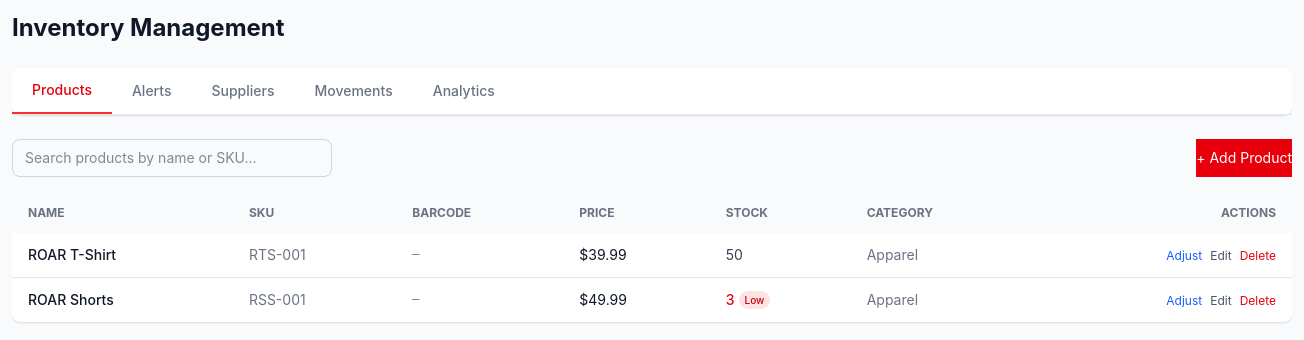
Test case: InventoryManagement › ProductList › deletes a product after confirmation
Expected: the text "ROAR T-Shirt" is shown, 28,246 -> 116,263
Click the button "Delete" in the row of "ROAR T-Shirt" at (1258, 256), box 1240,248 -> 1276,264
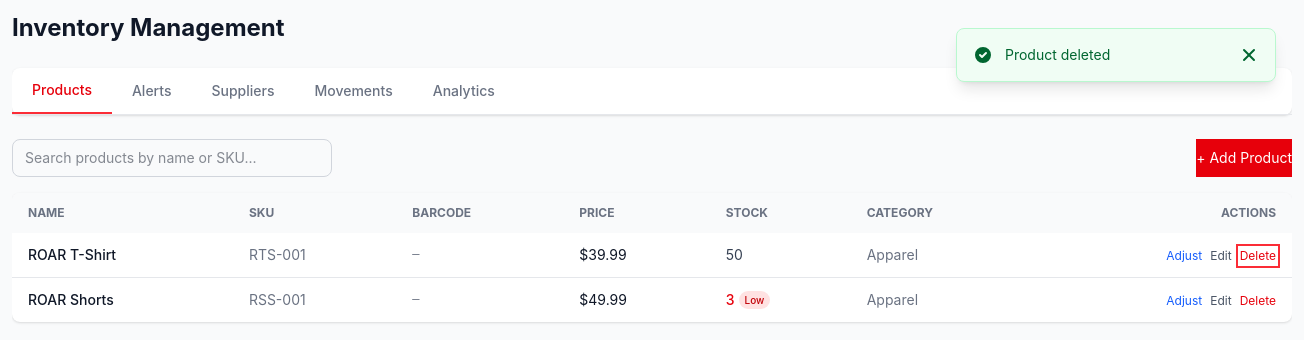
Now the text "Product deleted" is shown, box 1005,46 -> 1110,63
